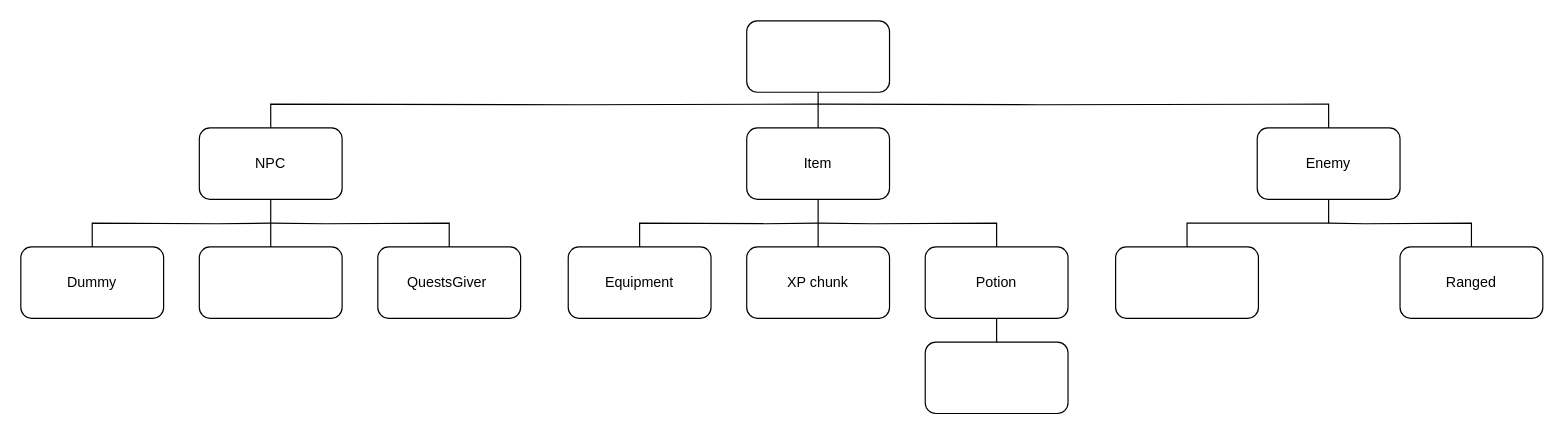
Some shapes in this 1564 by 434 pixel diagram are drawn without their labels. The shapes that lost their labels are listed below. From the top down, each one's box as (x1, y1, x2, y2) in pixels, then its label:
(746, 20, 890, 92): Interactable
(198, 246, 342, 318): Trader
(1114, 246, 1258, 318): Melee
(924, 341, 1068, 414): Random Effect Potion
